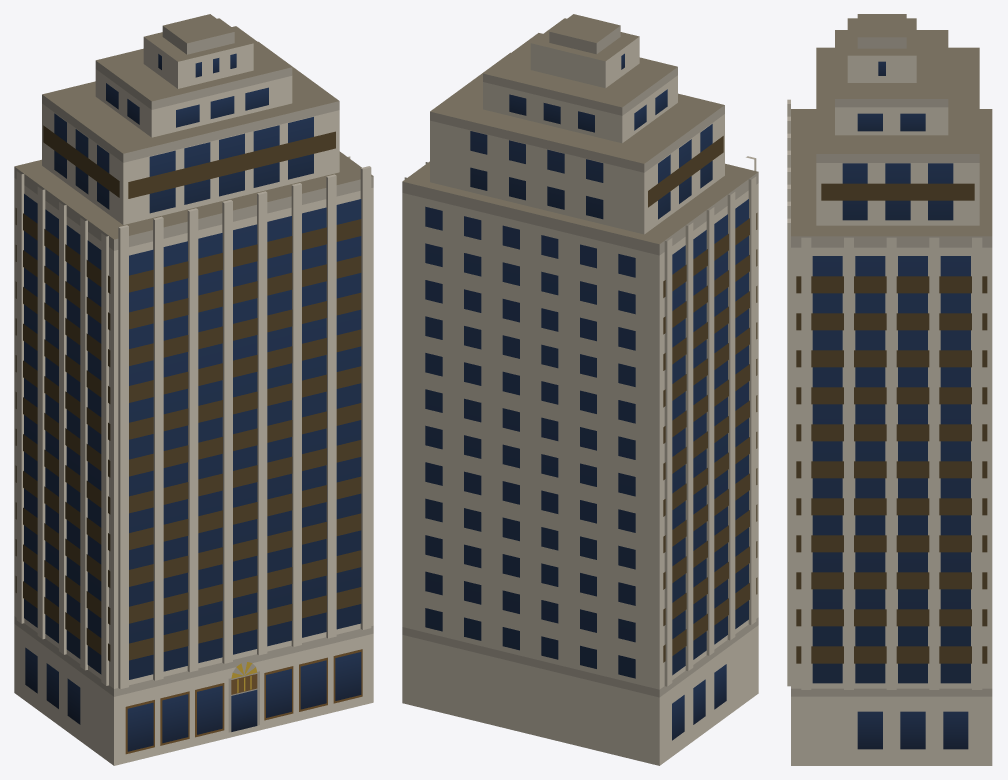
File: medical-arts.glb
3 renders of one model, left to right at view 1: azimuth 30°, elevation 25°; view 2: azimuth 150°, elevation 25°; view 3: azimuth 270°, elevation 25°, orthographic.
Visible parts, largest first — view 1: MedicalArts; view 2: MedicalArts; view 3: MedicalArts.
Part boxes in pixels (bbox=[...]): MedicalArts: bbox=[14, 14, 373, 765]; MedicalArts: bbox=[402, 14, 758, 765]; MedicalArts: bbox=[787, 14, 992, 765].
Bounding box in the file's own units: 24.5 × 59.4 × 16.41.
